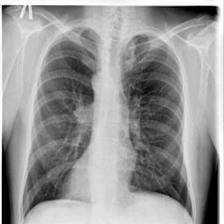tuberculosis: (19, 18, 203, 224)
